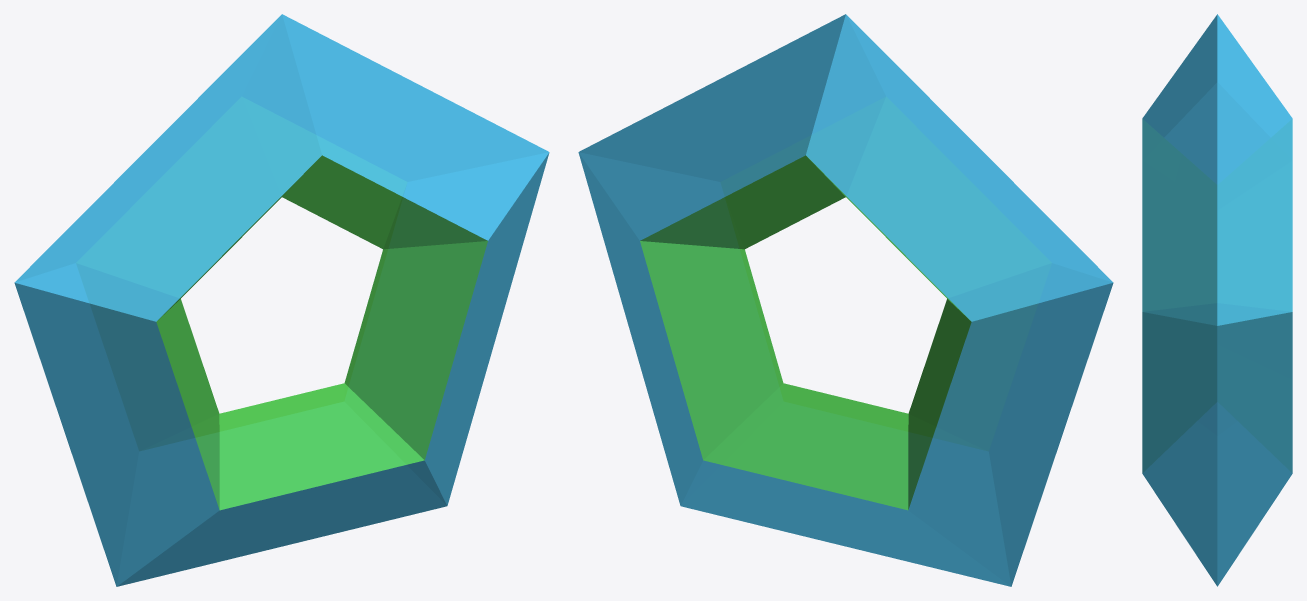
Rendered from Regular5TetragonalToroid.obj.
3 views of the same model, side by side, from view 1: azimuth 30°, elevation 25°; view 2: azimuth 150°, elevation 25°; view 3: azimuth 270°, elevation 25° (orthographic). The views are drawn at different scales.
Size of the model in its own units: 2.69 by 2.56 by 0.7.
